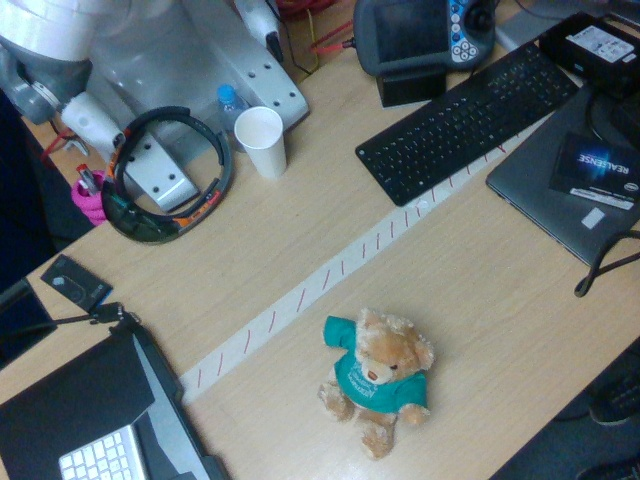teddy: (316, 307, 435, 458)
